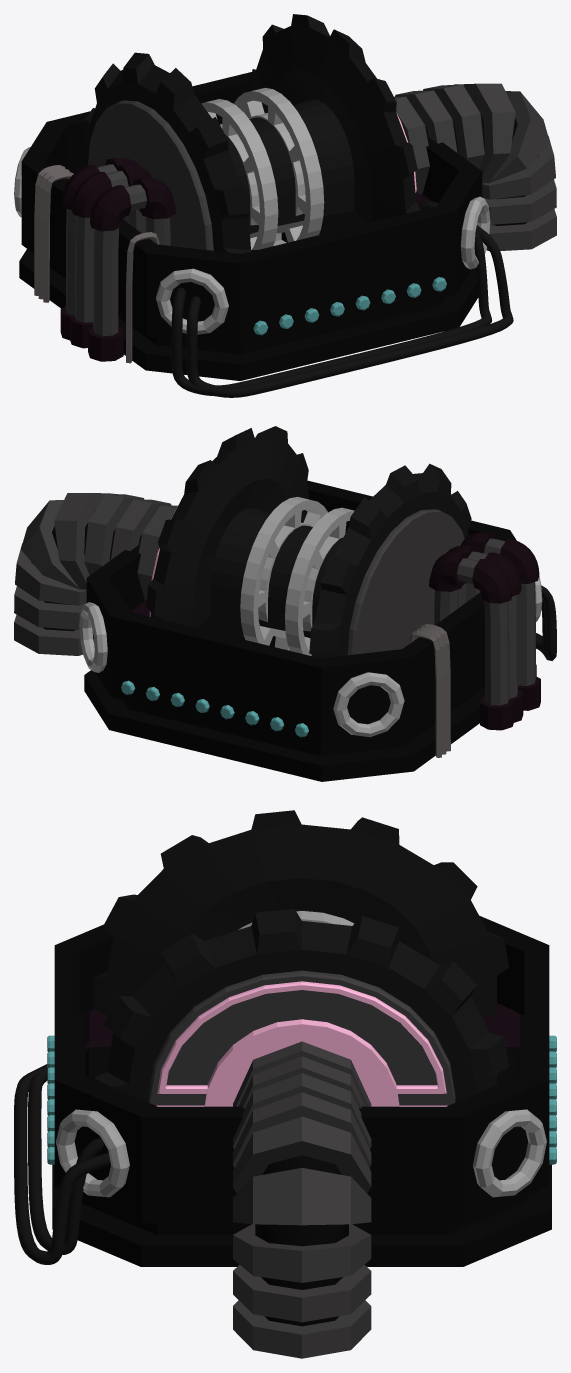
The model's file is switch_down.fbx.
3 renders of one model, top to bottom at view 1: azimuth 30°, elevation 25°; view 2: azimuth 150°, elevation 25°; view 3: azimuth 270°, elevation 25°, orthographic. The views are drawn at different scales.
Parts seen in each view (by area): view 1: 3_bottom_gear2; view 2: 3_bottom_gear2; view 3: 3_bottom_gear2.
Part boxes in pixels (x1,y1,x2,y2): 3_bottom_gear2: [14, 14, 556, 397]; 3_bottom_gear2: [14, 426, 556, 781]; 3_bottom_gear2: [14, 810, 556, 1358].
Bounding box in the file's own units: 314 × 147 × 232.
